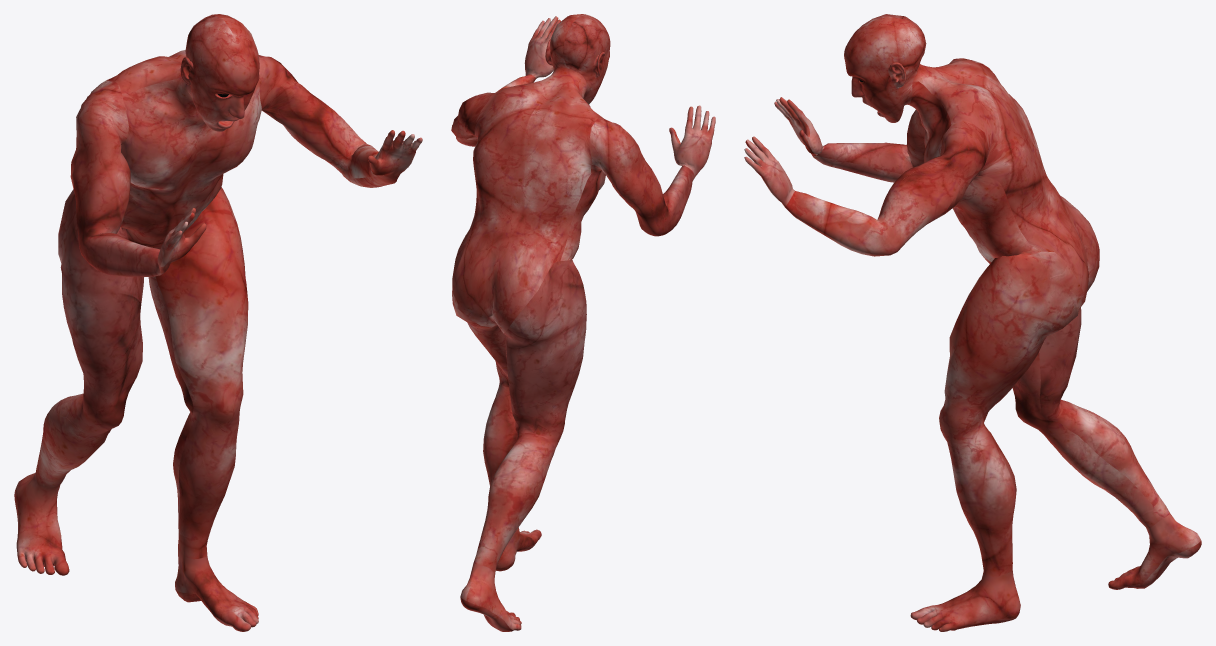
Rendered from Maniqui_flesh.fbx.
The picture shows the model from 3 angles, left to right: view 1: azimuth 30°, elevation 25°; view 2: azimuth 150°, elevation 25°; view 3: azimuth 270°, elevation 25°; orthographic projection. The views are drawn at different scales.
Parts seen in each view (by area): view 1: Perseo; view 2: Perseo; view 3: Perseo.
Part boxes in pixels (x1,y1,x2,y2): Perseo: (14,14,422,631); Perseo: (451,14,715,631); Perseo: (744,14,1201,631).
Bounding box in the file's own units: 79.66 × 178 × 125.
2 materials, 1 textured.
